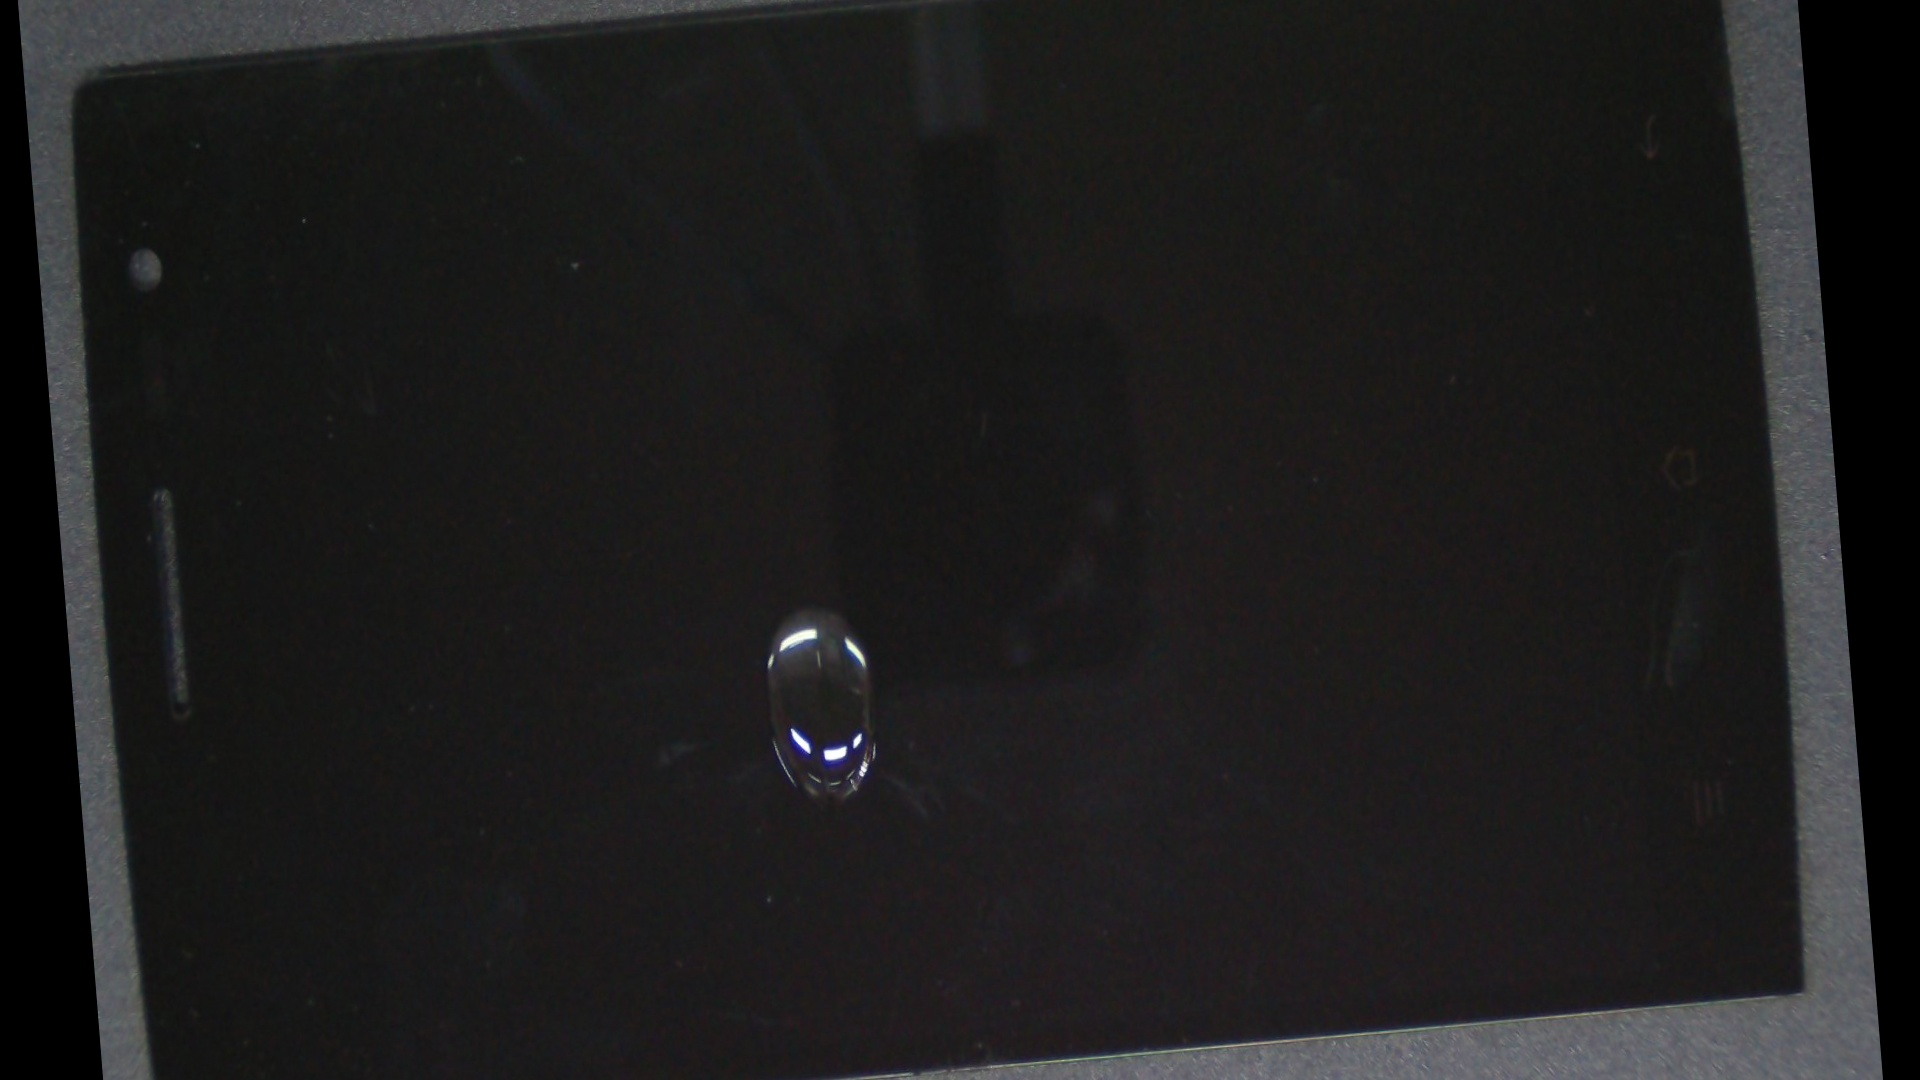oil: (410, 222, 1201, 996)
